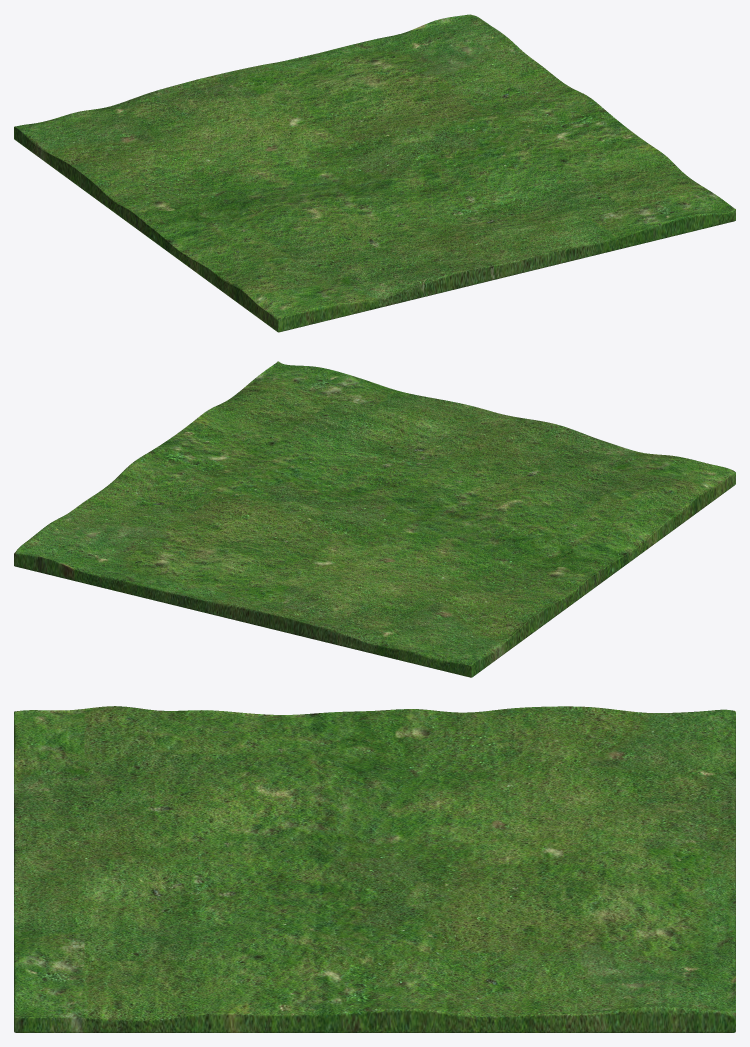
The model's file is grass-c4684903.glb.
3 renders of one model, top to bottom at view 1: azimuth 30°, elevation 25°; view 2: azimuth 150°, elevation 25°; view 3: azimuth 270°, elevation 25°, orthographic. The views are drawn at different scales.
Visible parts, largest first — view 1: 10450_Rectangular_Grass_Patch_v1_iterations-2; view 2: 10450_Rectangular_Grass_Patch_v1_iterations-2; view 3: 10450_Rectangular_Grass_Patch_v1_iterations-2.
Boxes of the visible parts, bbox=[...] form: 10450_Rectangular_Grass_Patch_v1_iterations-2: bbox=[14, 14, 735, 332]; 10450_Rectangular_Grass_Patch_v1_iterations-2: bbox=[14, 361, 735, 677]; 10450_Rectangular_Grass_Patch_v1_iterations-2: bbox=[14, 706, 735, 1032].
Bounding box in the file's own units: 300 × 11.78 × 300.
1 material, 1 textured.
